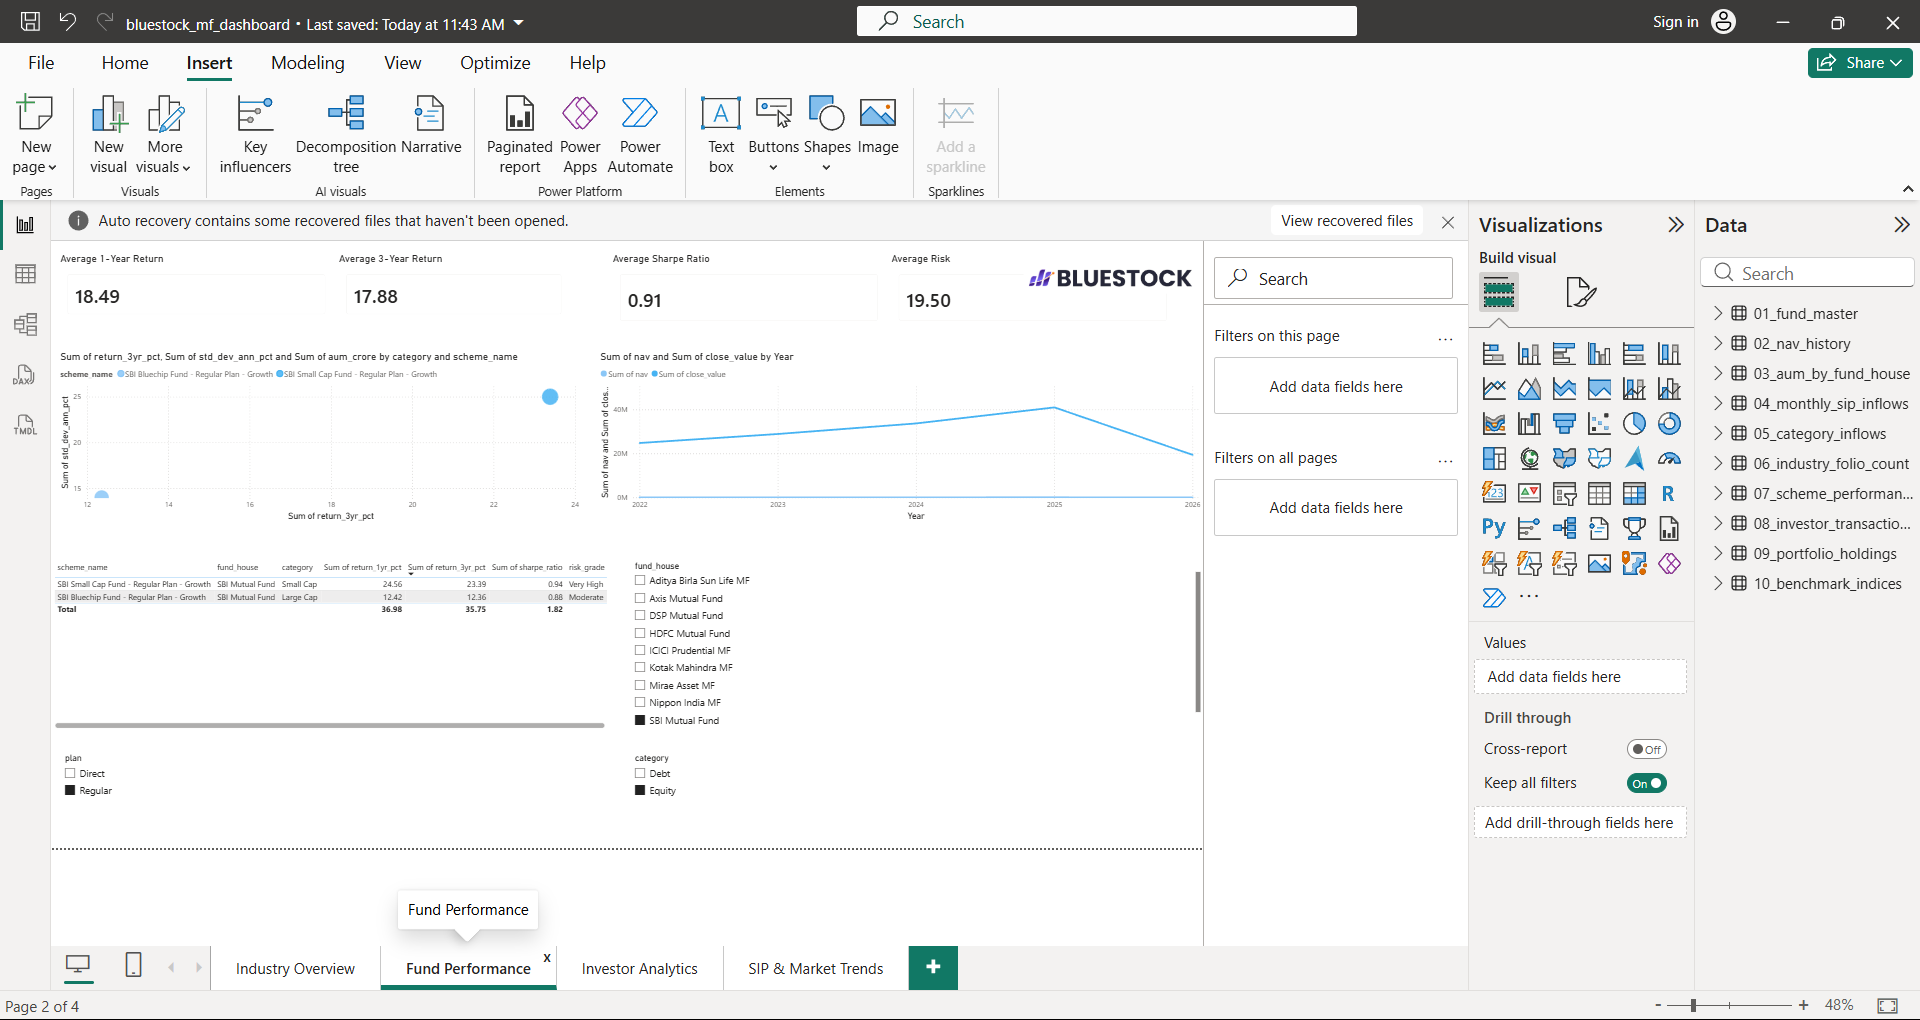

What the dashboard file says about the page in this screenshot:
{"tool":"powerbi","page":{"name":"Fund Performance","canvas":[1920,1080],"ordinal":1},"visuals":[{"type":"textbox","box":[10.3,0,1910.1,70],"z":0},{"type":"cardVisual","title":"Average 1-Year Return","fields":{"Data":["Avg(07_scheme_performance.return_1yr_pct)"]},"box":[10.4,87.5,464.5,120.8],"z":1000},{"type":"cardVisual","title":"Average 3-Year Return","fields":{"Data":["Avg(07_scheme_performance.return_3yr_pct)"]},"box":[474.9,87.5,393.7,120.8],"z":2000},{"type":"cardVisual","title":"Average Sharpe Ratio","fields":{"Data":["Avg(07_scheme_performance.sharpe_ratio)"]},"box":[931.1,87.5,464.5,131.2],"z":3000},{"type":"cardVisual","title":"Average Risk","fields":{"Data":["Avg(07_scheme_performance.std_dev_ann_pct)"]},"box":[1395.5,87.5,481.1,131.2],"z":4000},{"type":"scatterChart","fields":{"X":["Sum(07_scheme_performance.return_3yr_pct)"],"Y":["Sum(07_scheme_performance.std_dev_ann_pct)"],"Size":["Sum(07_scheme_performance.aum_crore)"],"Category":["07_scheme_performance.category"],"Series":["07_scheme_performance.scheme_name"]},"box":[10.4,249.9,874.8,289.5],"z":5000},{"type":"tableEx","fields":{"Values":["07_scheme_performance.scheme_name","07_scheme_performance.fund_house","07_scheme_performance.category","Sum(07_scheme_performance.return_1yr_pct)","Sum(07_scheme_performance.return_3yr_pct)","Sum(07_scheme_performance.sharpe_ratio)","07_scheme_performance.risk_grade"]},"box":[0,595.7,931.1,289.5],"z":6000},{"type":"lineChart","fields":{"Category":["02_nav_history.date.Variation.Date Hierarchy.Year","02_nav_history.date.Variation.Date Hierarchy.Quarter","02_nav_history.date.Variation.Date Hierarchy.Month","02_nav_history.date.Variation.Date Hierarchy.Day"],"Y":["Sum(02_nav_history.nav)","Sum(10_benchmark_indices.close_value)"]},"box":[910.2,249.9,1010.2,289.5],"z":7000},{"type":"slicer","fields":{"Values":["01_fund_master.fund_house"]},"box":[960.2,595.7,960.2,289.5],"z":8000},{"type":"slicer","fields":{"Values":["01_fund_master.category"]},"box":[960.2,916.5,960.2,164.5],"z":9000},{"type":"slicer","fields":{"Values":["01_fund_master.plan"]},"box":[10.4,916.5,899.8,164.5],"z":10000},{"type":"image","box":[1620.5,35.4,299.9,187.5],"z":10001}]}

Visuals, with their boxes on the page's 1920x1080 design canvas (x1, y1, x2, y2). These are canvas units, not pixel positions in the 1920x1020 screenshot, which may show the page scaled, cropped or inside an application window:
textbox: BBox(10, 0, 1920, 70)
"Average 1-Year Return" cardVisual: BBox(10, 88, 475, 208)
"Average 3-Year Return" cardVisual: BBox(475, 88, 869, 208)
"Average Sharpe Ratio" cardVisual: BBox(931, 88, 1396, 219)
"Average Risk" cardVisual: BBox(1396, 88, 1877, 219)
scatterChart - Sum(07_scheme_performance.return_3yr_pct) x Sum(07_scheme_performance.std_dev_ann_pct): BBox(10, 250, 885, 539)
tableEx - 07_scheme_performance.scheme_name x 07_scheme_performance.fund_house: BBox(0, 596, 931, 885)
lineChart - 02_nav_history.date.Variation.Date Hierarchy.Year x 02_nav_history.date.Variation.Date Hierarchy.Quarter: BBox(910, 250, 1920, 539)
slicer - 01_fund_master.fund_house: BBox(960, 596, 1920, 885)
slicer - 01_fund_master.category: BBox(960, 916, 1920, 1081)
slicer - 01_fund_master.plan: BBox(10, 916, 910, 1081)
image: BBox(1620, 35, 1920, 223)
